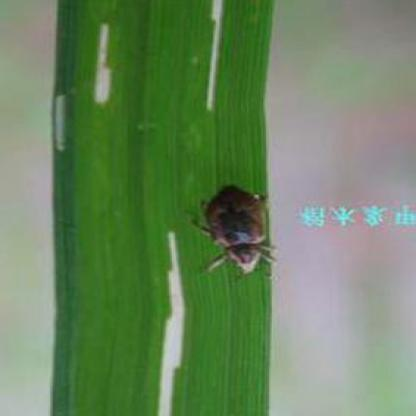rice-bug: (202, 183, 278, 277)
